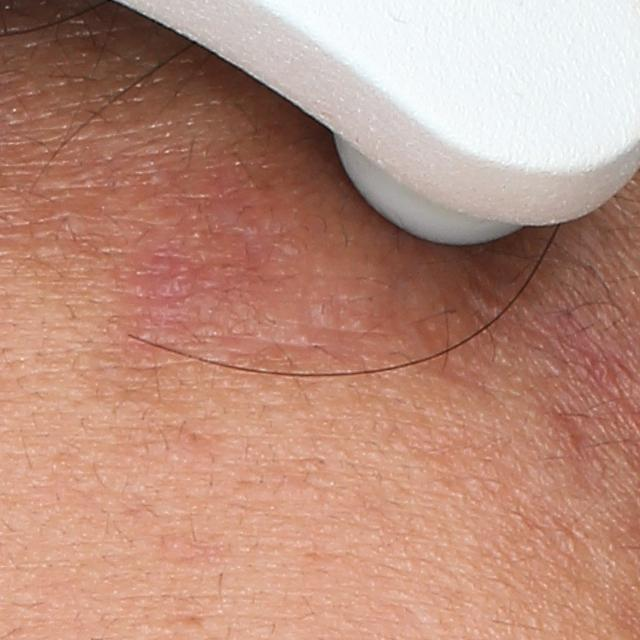atrophic_scar: (100, 220, 450, 403)
